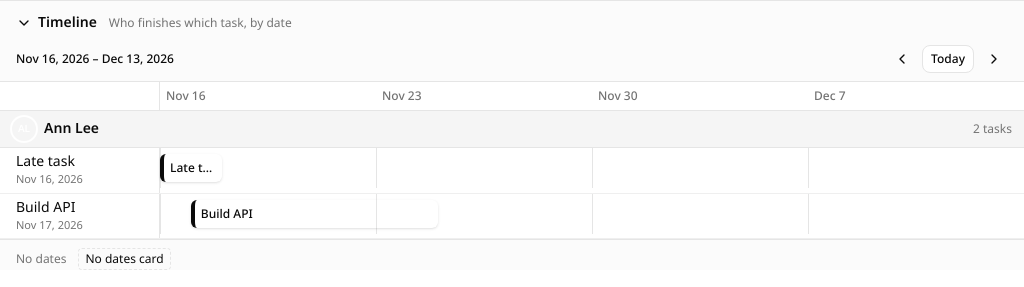
Test: TimelineSection › prev/next move the range by a week and Today comes back
Later steps or results of the test are not shown.
Expected: the link "Late task" is shown, [160,154,222,182]
Click the button named "Next week".
click(994, 59)  # box [980,45,1008,73]
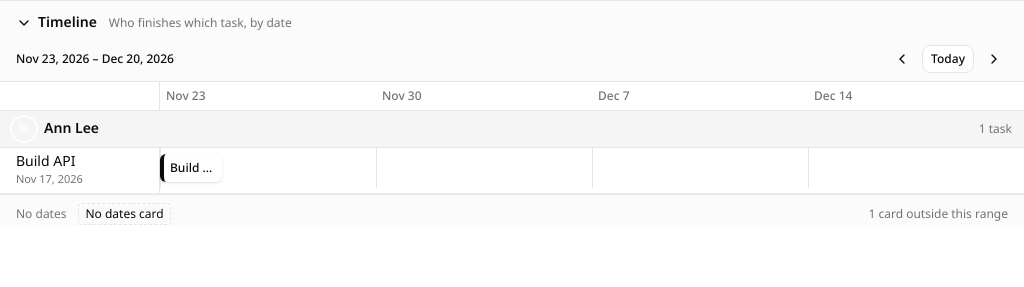
Result: the text "Late task" is gone
